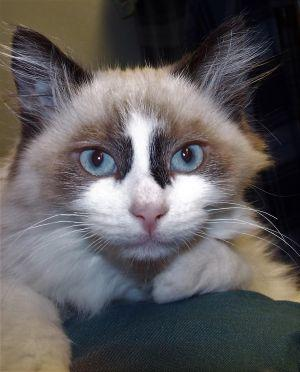ragdoll: (8, 5, 276, 304)
